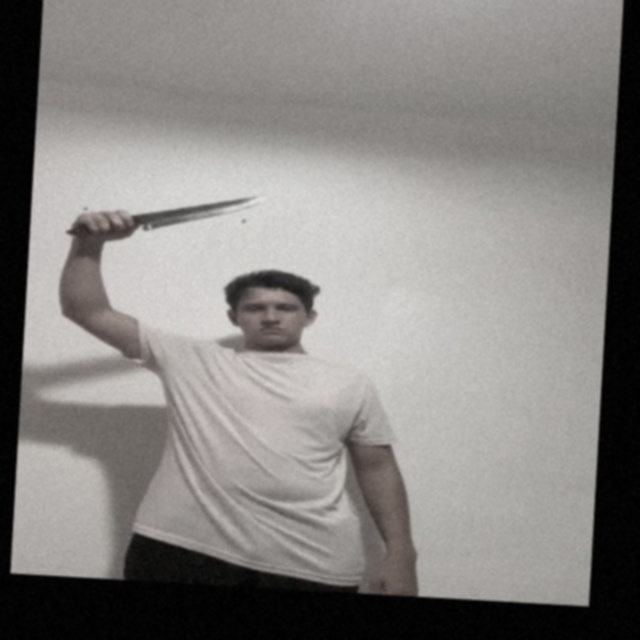Sharp-Object: (142, 190, 263, 235)
